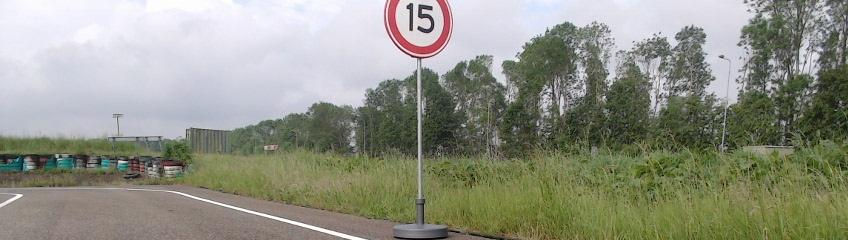Speed-limit-15km-h-: (384, 0, 454, 58)
